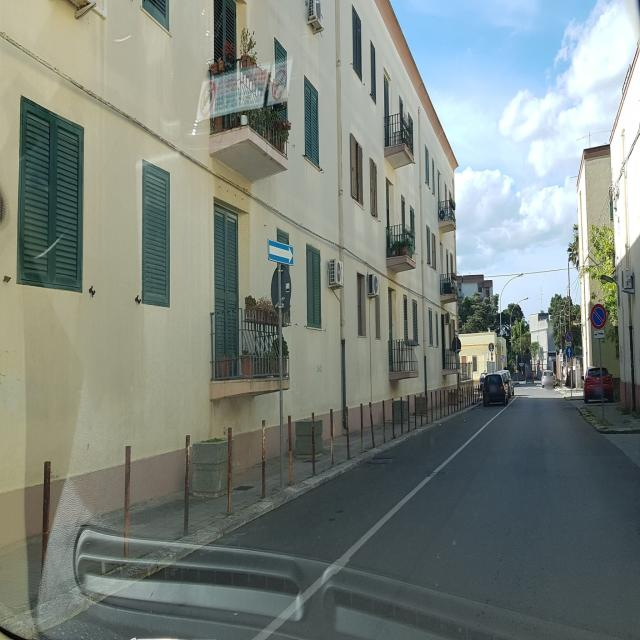forb_stopping: (590, 304, 606, 329)
